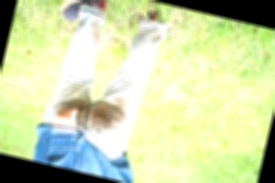earth: (78, 100, 124, 130)
